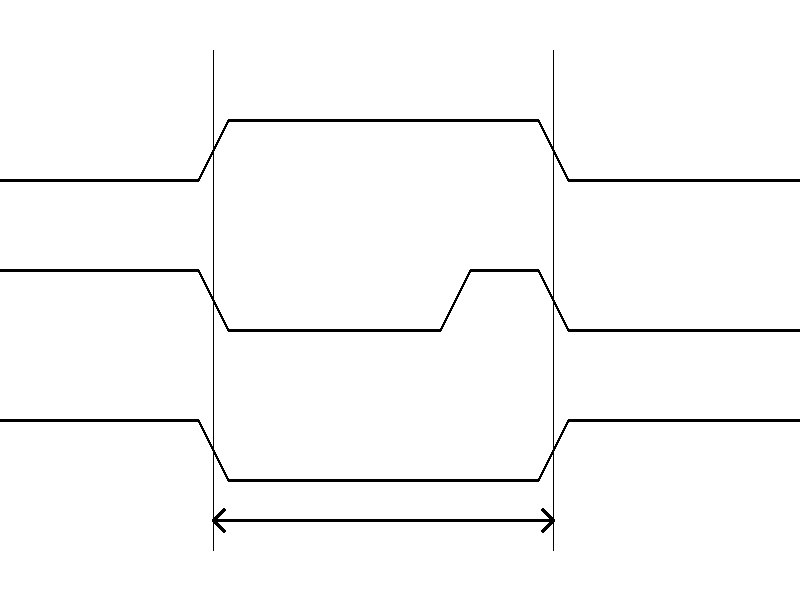double_arrow: (213, 505, 553, 535)
